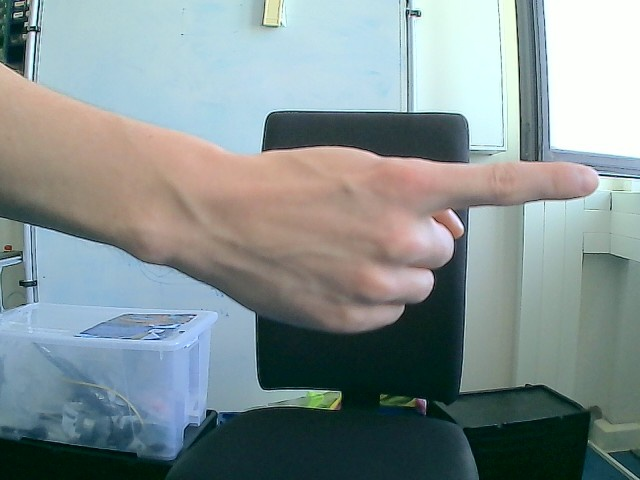left: (190, 143, 601, 336)
